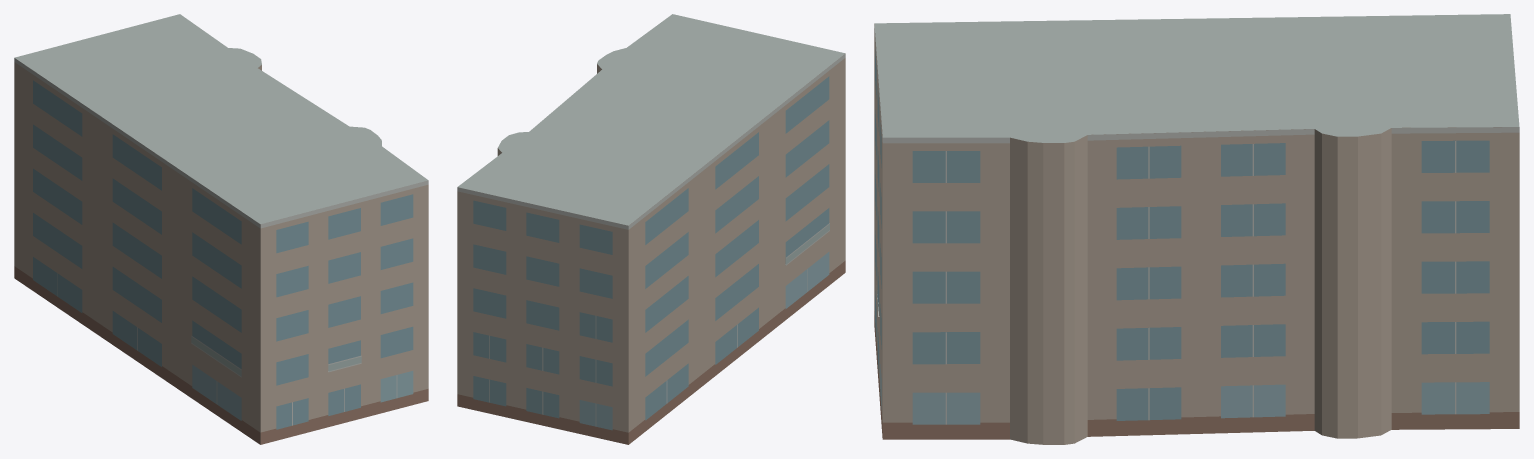
Rendered from survey-upis-32706863.glb.
3 renders of one model, left to right at view 1: azimuth 30°, elevation 25°; view 2: azimuth 150°, elevation 25°; view 3: azimuth 270°, elevation 25°, orthographic. The views are drawn at different scales.
Parts seen in each view (by area): view 1: survey-upis-32706863.tmp; view 2: survey-upis-32706863.tmp; view 3: survey-upis-32706863.tmp.
Boxes of the visible parts, <box> form: survey-upis-32706863.tmp: <box>14,14,428,444</box>; survey-upis-32706863.tmp: <box>457,14,845,444</box>; survey-upis-32706863.tmp: <box>874,14,1519,444</box>.
Size of the model in its own units: 11.74 by 12.8 by 24.8.
